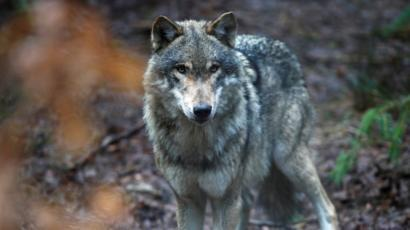fox: (144, 9, 340, 230)
